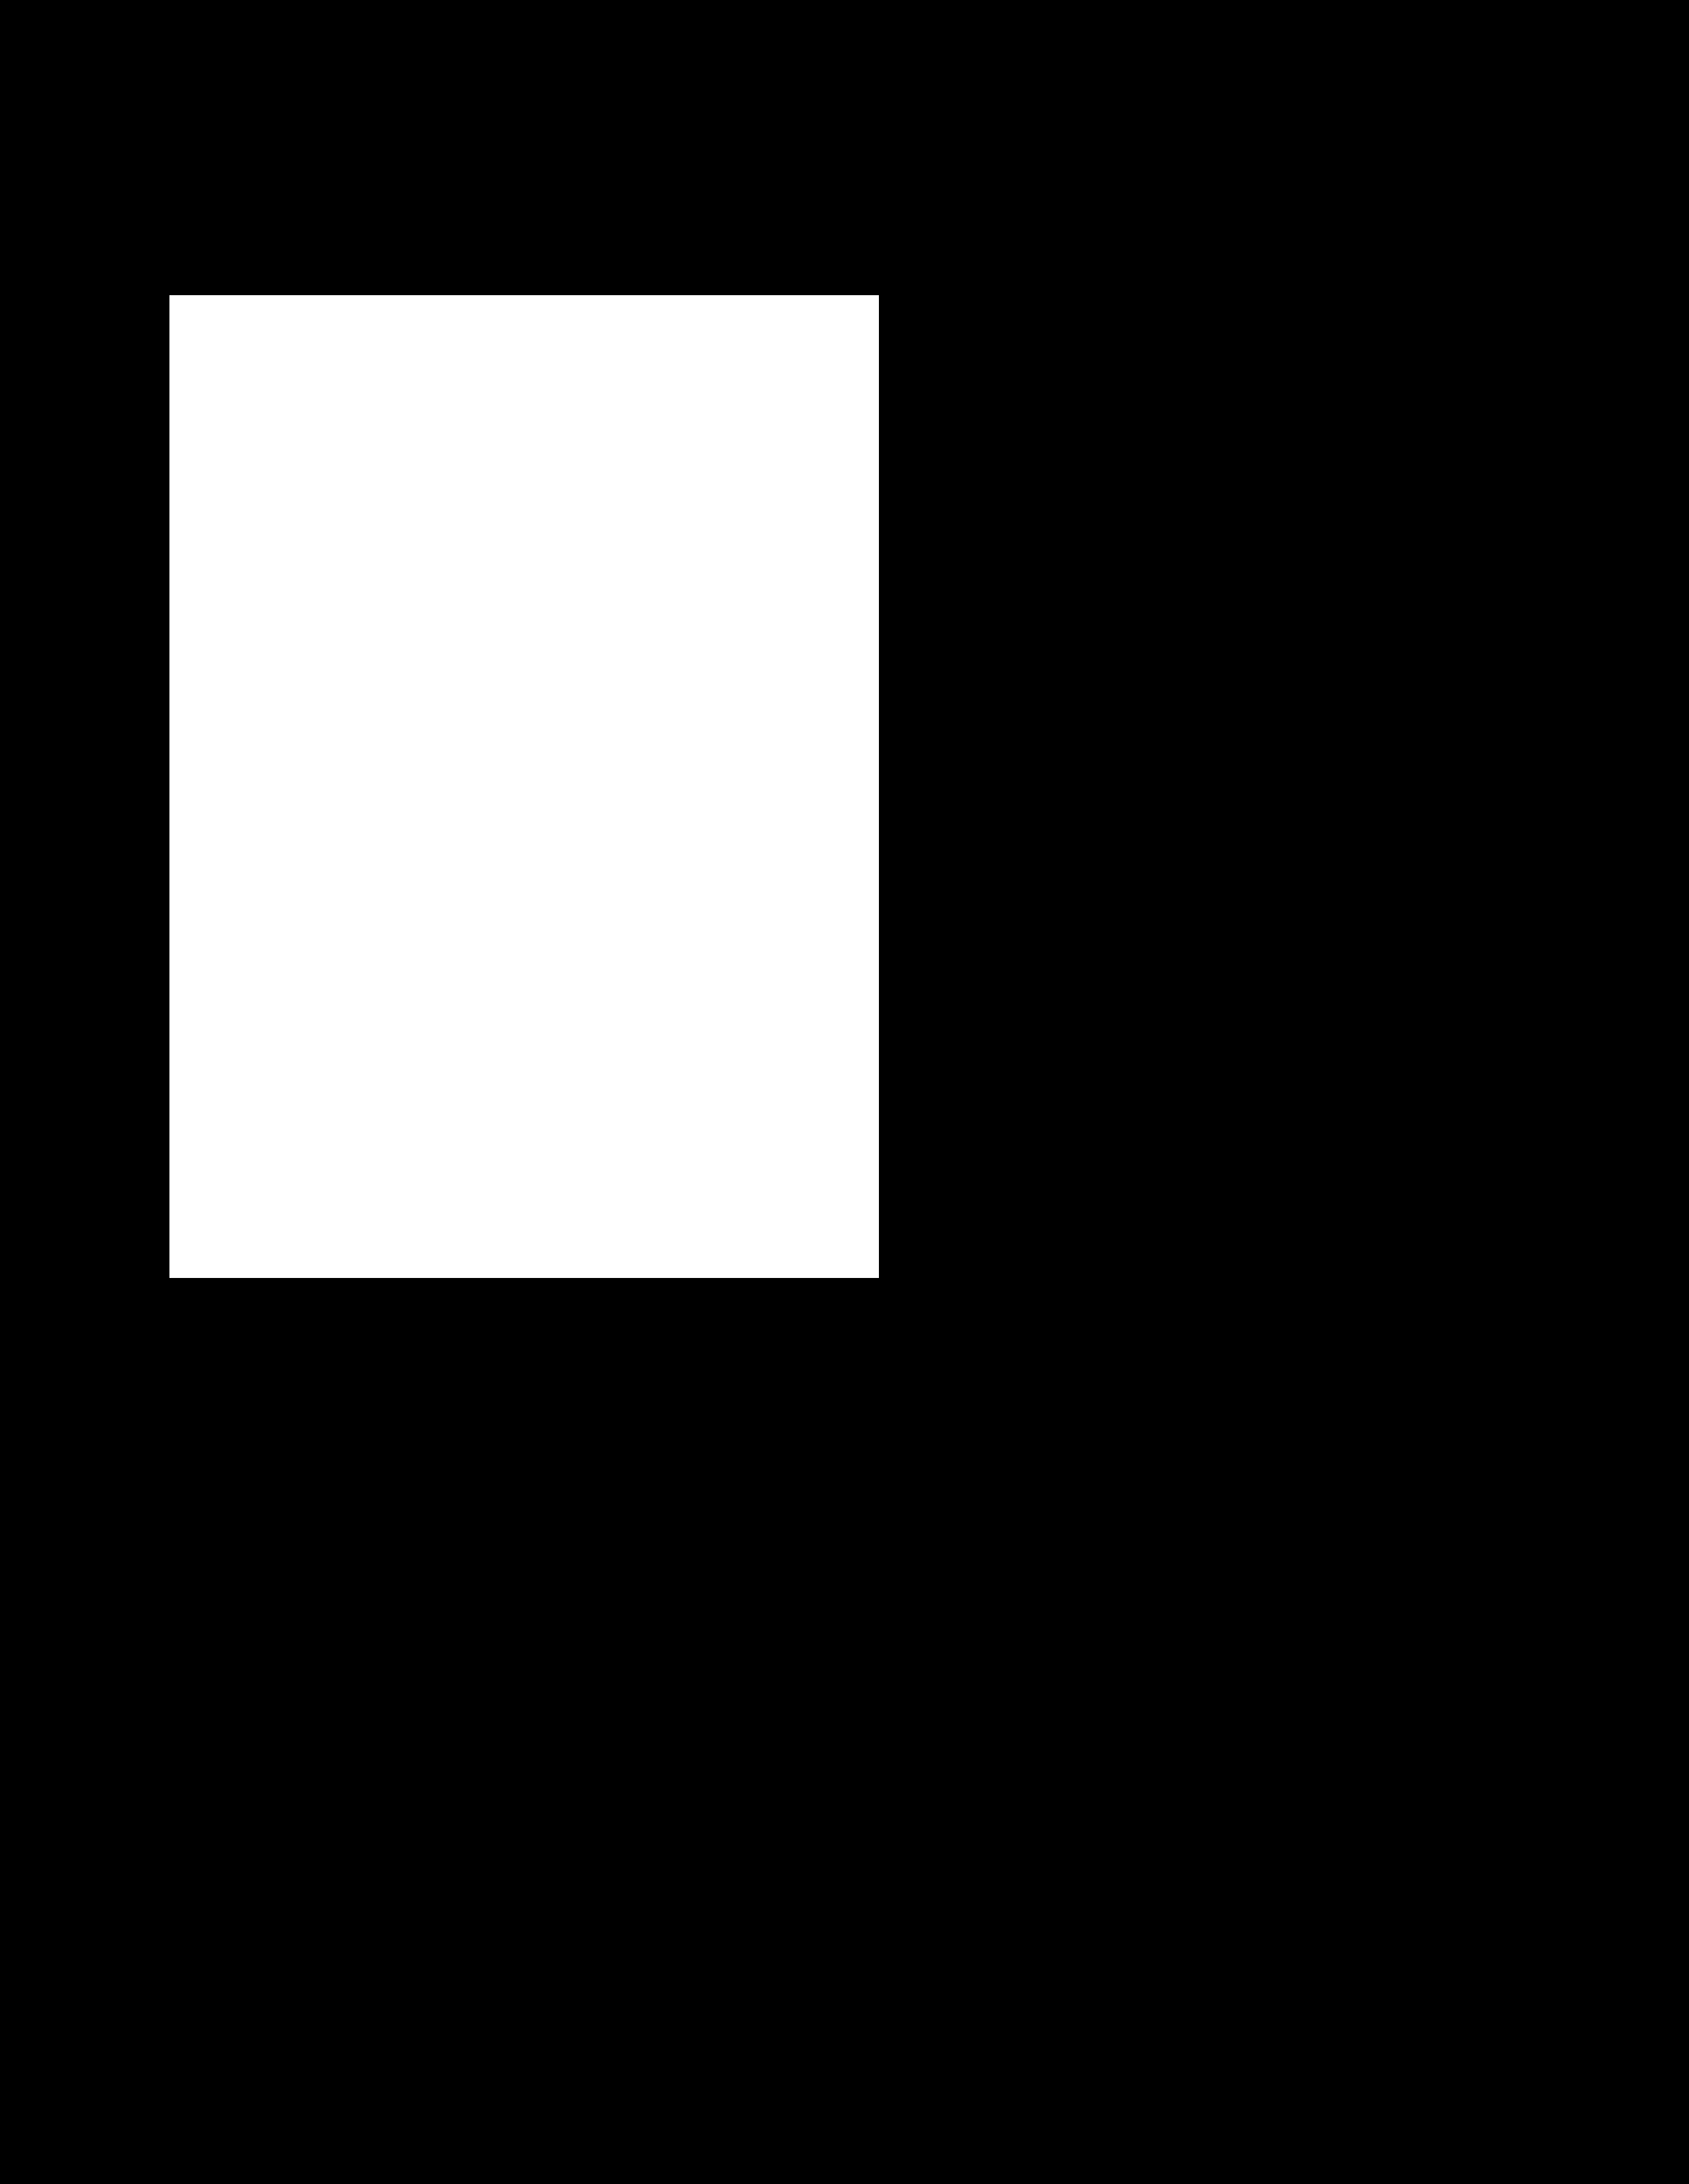table: (170, 296, 879, 1278)
